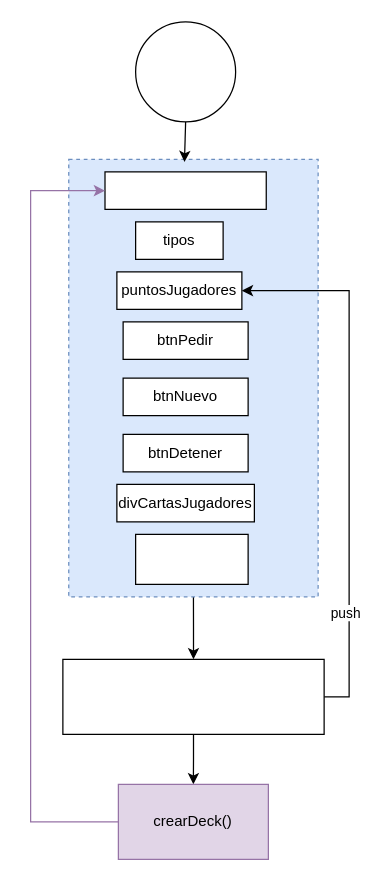
This 383x881 diagram has some shape labels left out. The centre of each missing label's shape, as x and y in pixels:
"deck" belongs at [185,190].
"inicializarJuego (numJugadores: number)" belongs at [193,696].
"Inicio" belongs at [185,71].
"puntosHtml" belongs at [191,558].
